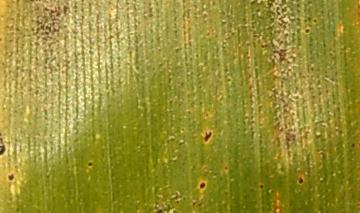tarspot: (1, 131, 10, 159), (200, 129, 215, 142), (84, 159, 96, 170), (296, 176, 307, 188), (5, 172, 16, 183), (197, 180, 207, 192), (257, 181, 266, 192)
